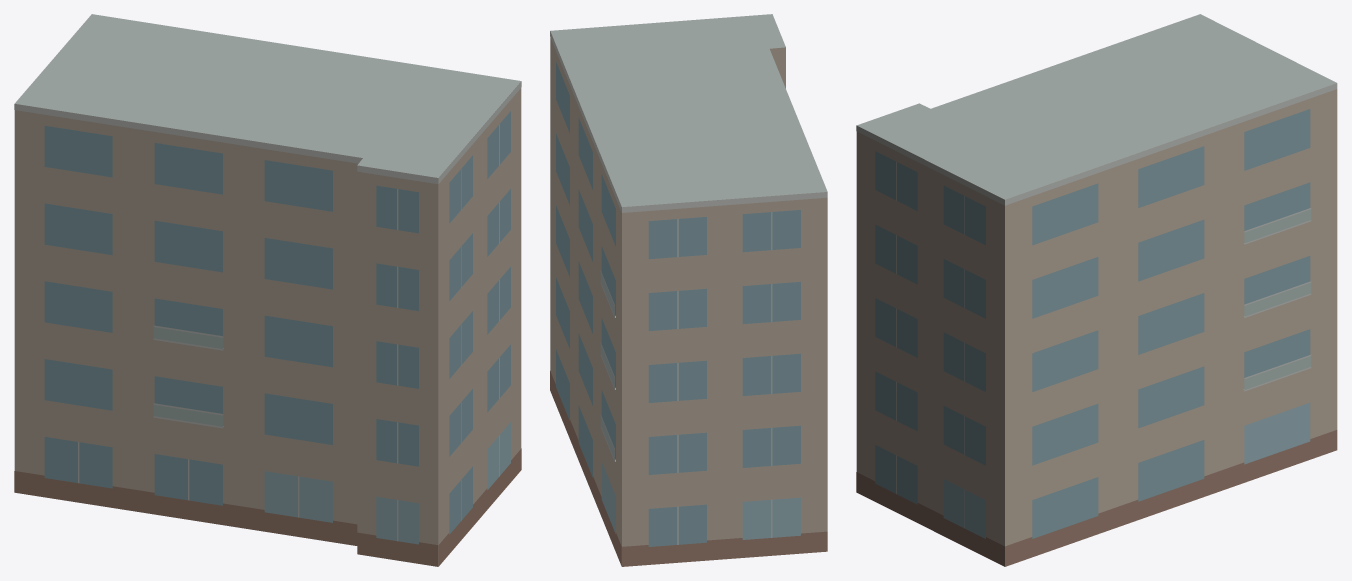
The model's file is survey-upis-32844003.glb.
The picture shows the model from 3 angles, left to right: view 1: azimuth 30°, elevation 25°; view 2: azimuth 150°, elevation 25°; view 3: azimuth 270°, elevation 25°; orthographic projection. The views are drawn at different scales.
Visible parts, largest first — view 1: survey-upis-32844003.tmp; view 2: survey-upis-32844003.tmp; view 3: survey-upis-32844003.tmp.
Boxes of the visible parts, left/top/right/bottom form: survey-upis-32844003.tmp: left=14, top=14, right=521, bottom=566; survey-upis-32844003.tmp: left=550, top=14, right=827, bottom=566; survey-upis-32844003.tmp: left=856, top=14, right=1337, bottom=566.
Size of the model in its own units: 16.57 by 15.25 by 18.11.
